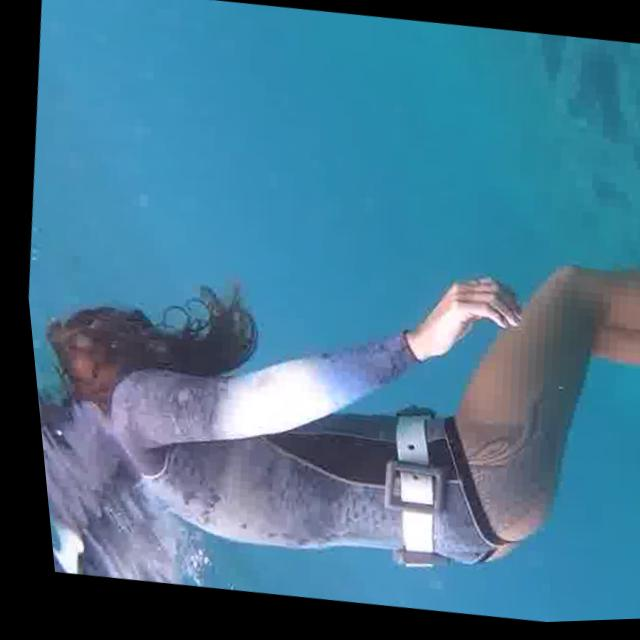human: (11, 126, 640, 628)
